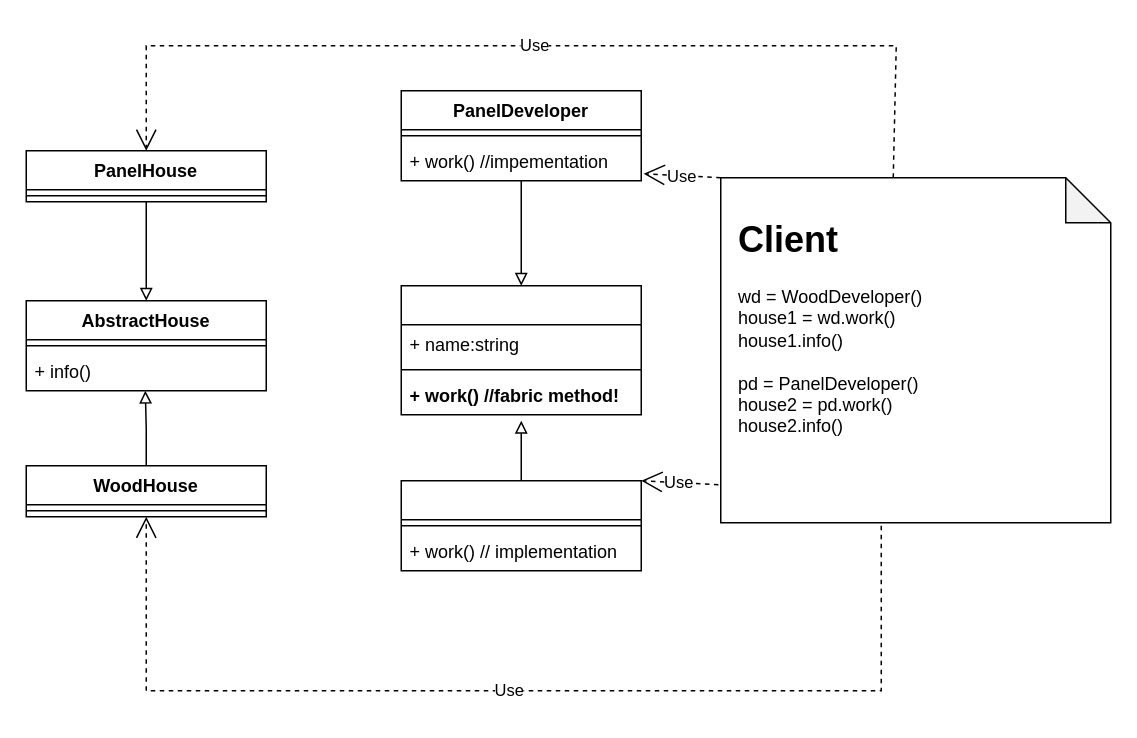
Image size: 1137x738. Some labels were removed from this diagram. The box of each missing label's shape, as (x1, y1, x2, y2) in pixels:
AbstractDeveloper: (400, 284, 641, 415)
WoodDeveloper: (400, 479, 641, 571)
